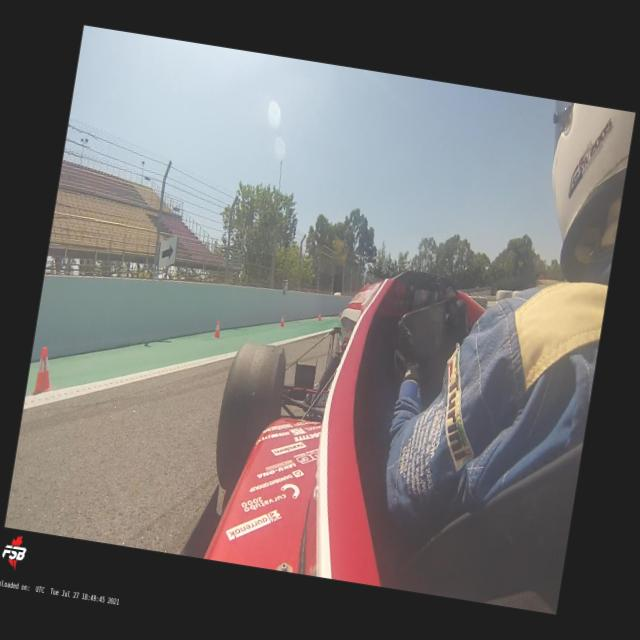orange_cone: (32, 346, 58, 396), (212, 320, 224, 339), (280, 316, 286, 328), (318, 312, 322, 321)
